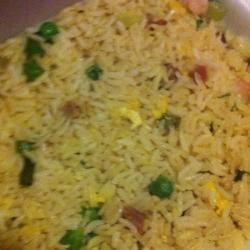rice: (16, 43, 231, 233)
